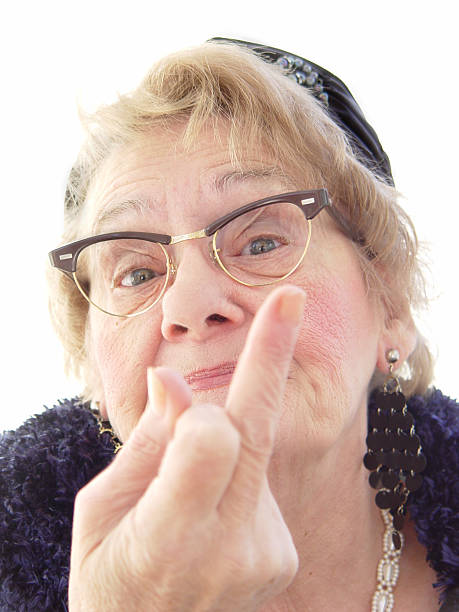insulting_gesture: (68, 285, 306, 612)
